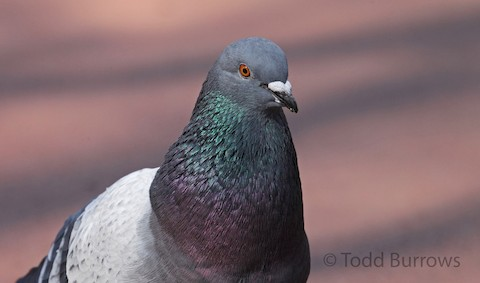pigeon: (7, 27, 315, 276)
